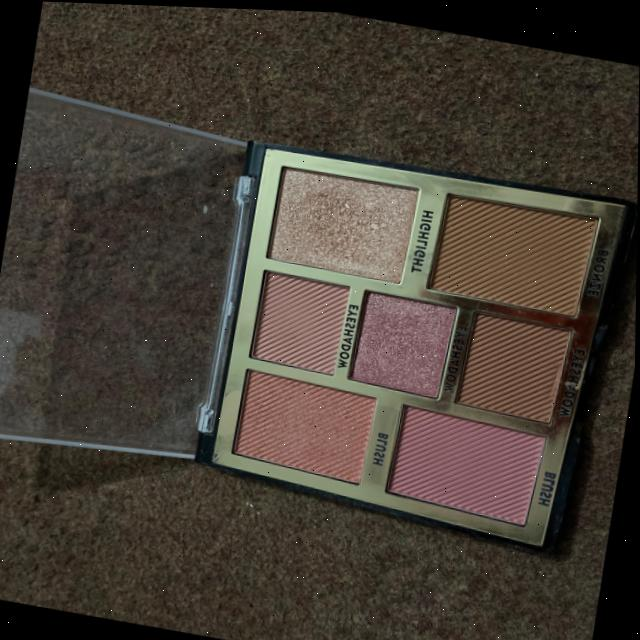blush: (384, 392, 557, 530), (221, 361, 380, 480)
bronzer: (416, 173, 612, 321)
eye shade: (436, 298, 577, 427), (339, 274, 464, 398), (244, 259, 364, 379)
highlighter: (257, 154, 435, 283)
